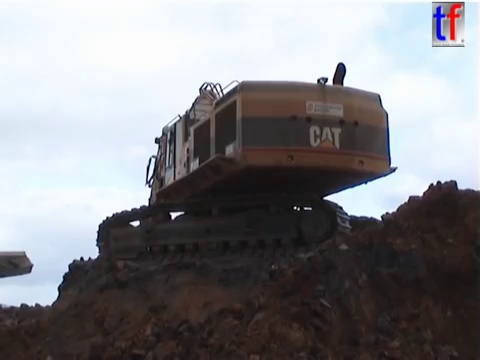excavator: (93, 59, 402, 264)
truck: (1, 249, 36, 281)
